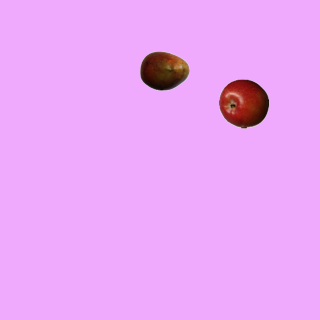Apple Braeburn: (218, 78, 268, 128)
Mango Red: (139, 45, 189, 95)
